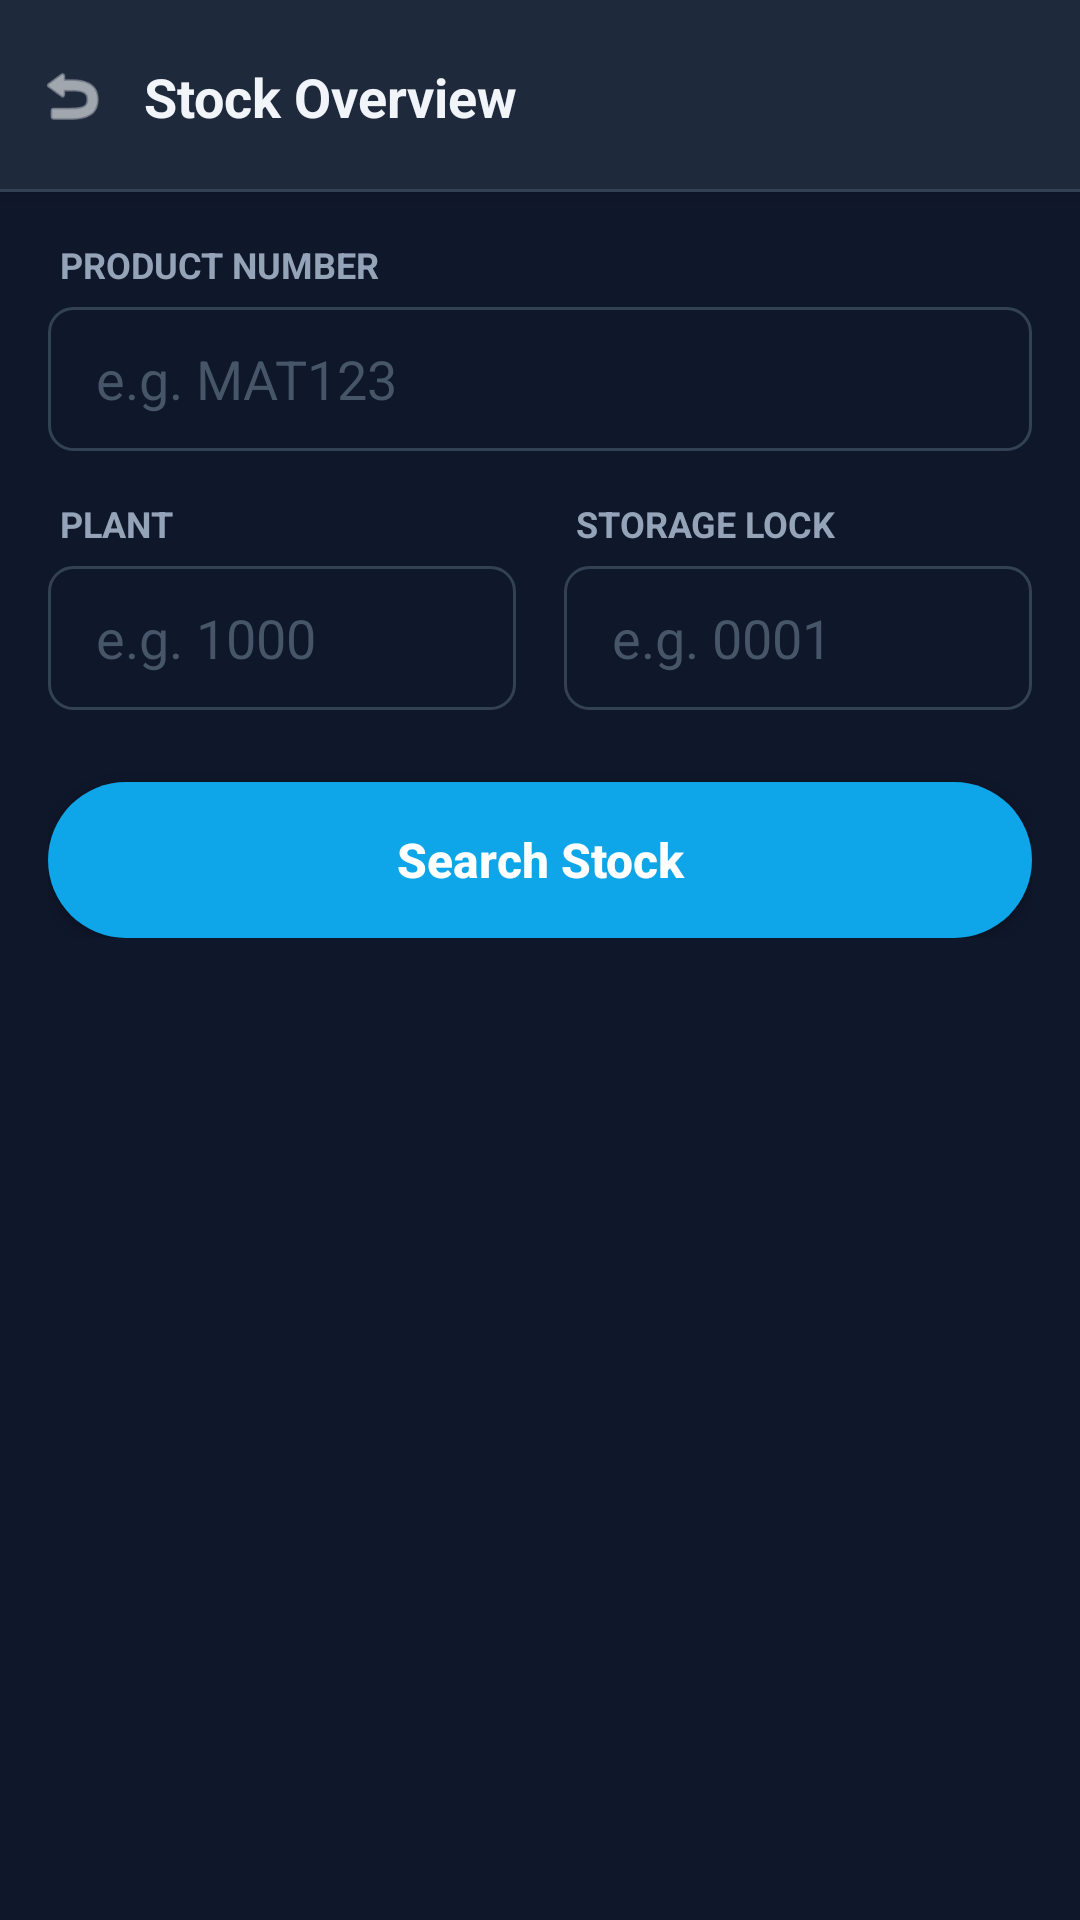

Screen size 1080 x 1920. Icon name, then its center in pixels as (x=x, y=y):
revert: (x=73, y=96)
